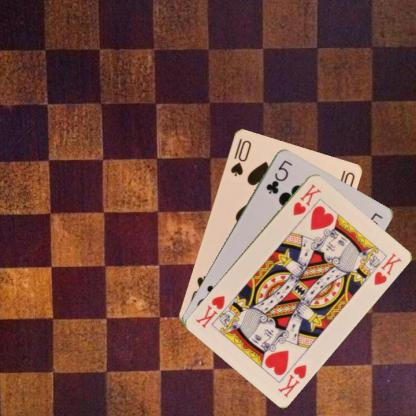10s: (228, 136, 252, 178)
5c: (263, 157, 293, 195)
Kh: (275, 361, 308, 399), (290, 181, 322, 217)
